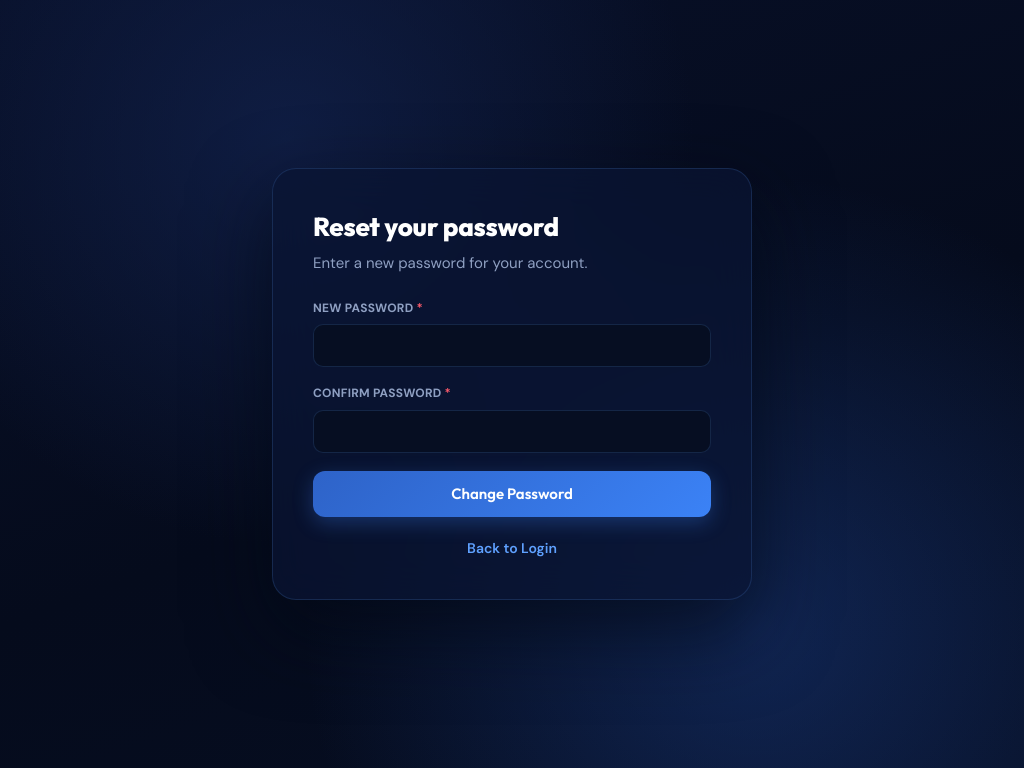
Test case: ResetPasswordPage › shows error on invalid/expired token
In the password field labelled "NEW PASSWORD": (512, 346) 313,324 -> 711,367, type "newpassword123"
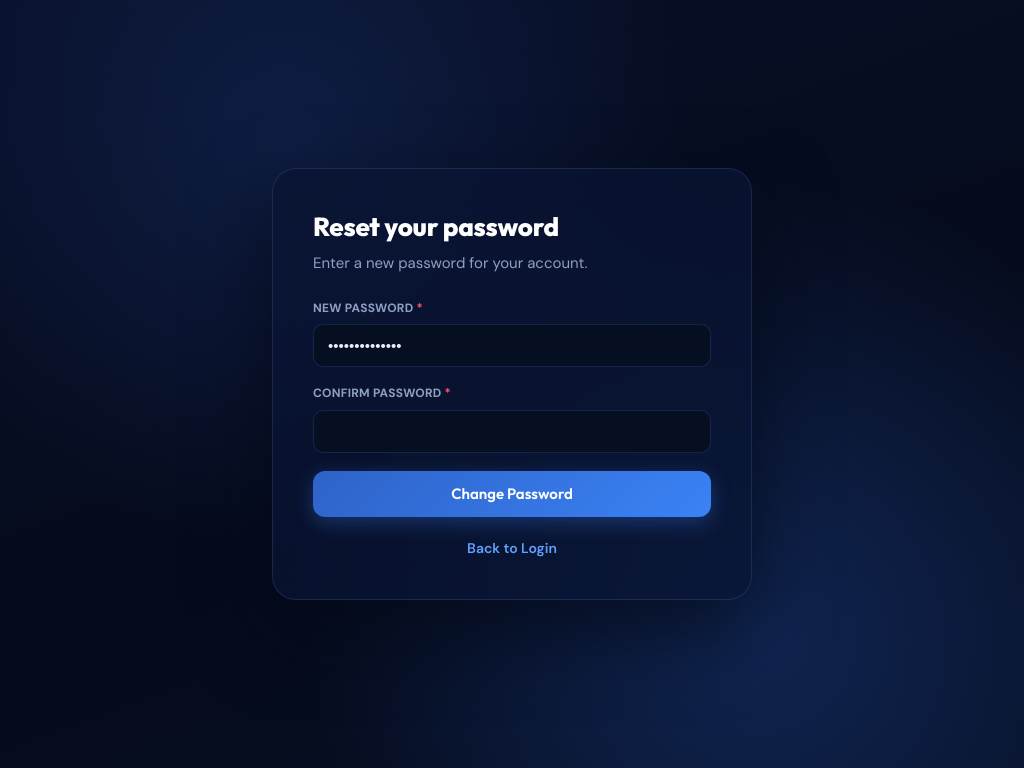
In the password field labelled "CONFIRM PASSWORD": (512, 431) 313,410 -> 711,453, type "newpassword123"
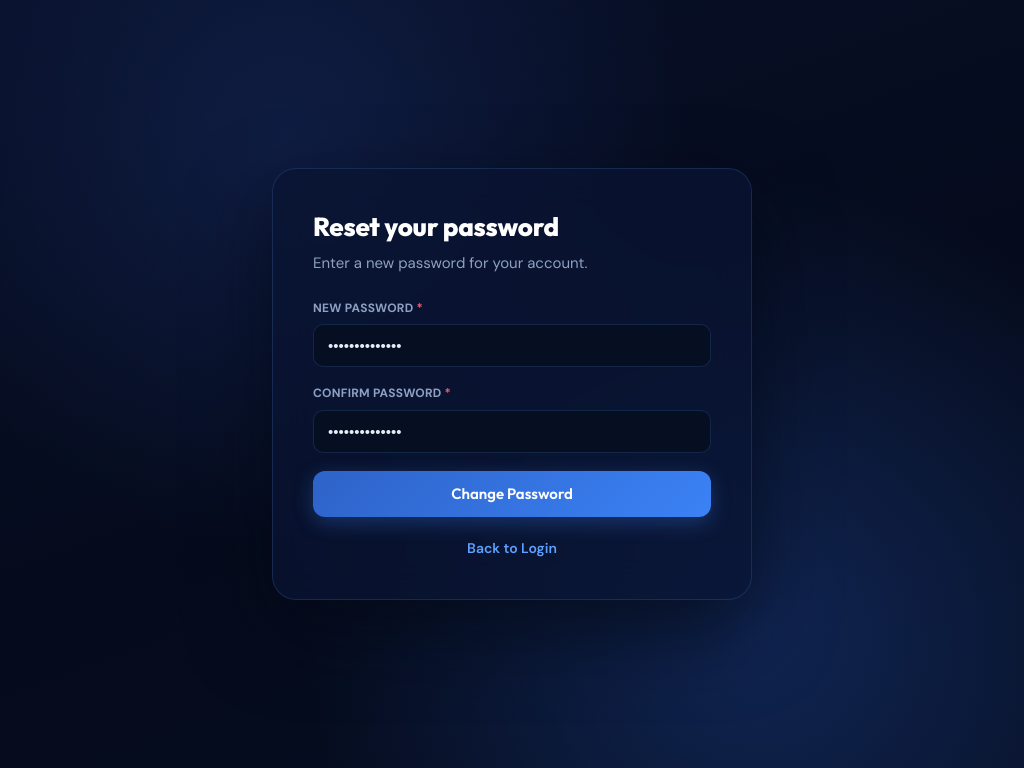
Click the button "Change Password": (512, 494) 313,471 -> 711,517
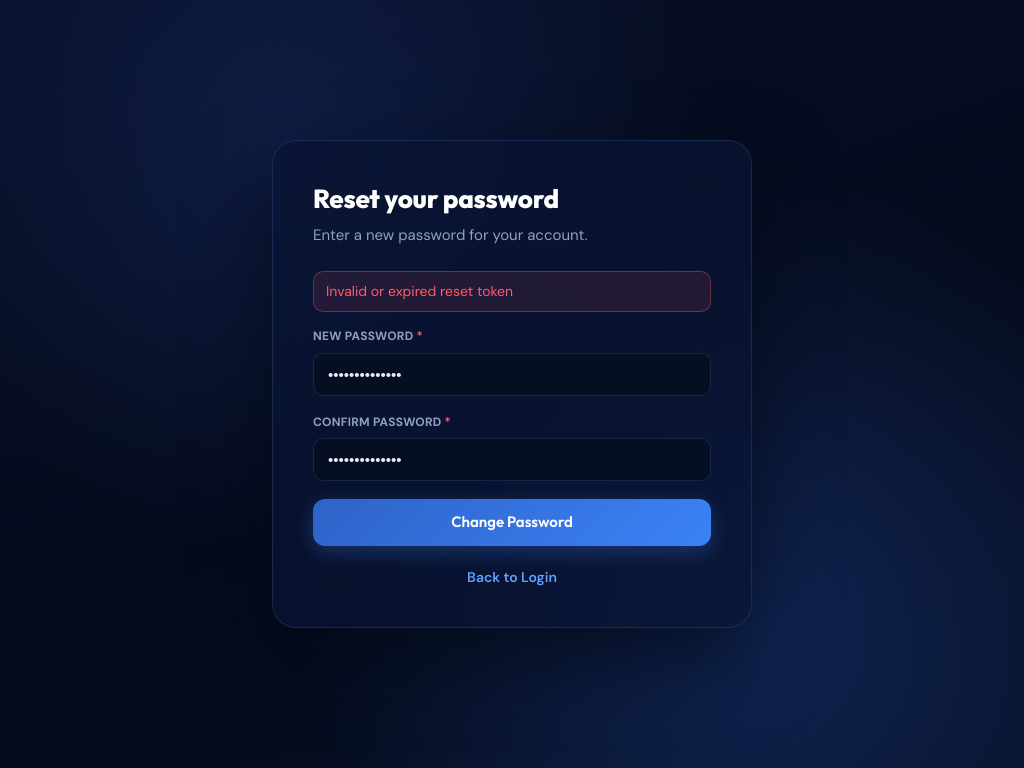
Expected: the text "Invalid or expired reset token" is shown, 313,271 -> 711,312
